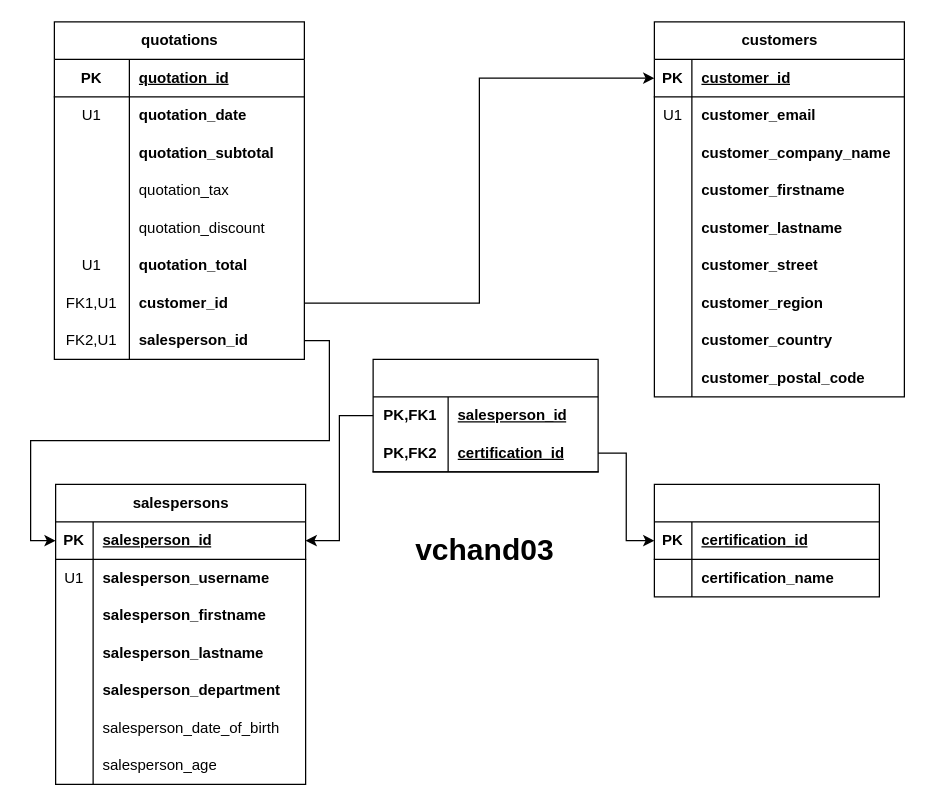
The diagram is 926 pixels wide and 806 high, and some of its shapes have lost their labels. The shapes that lost their labels are listed below. From the top down, each one's box as (x1, y1, x2, y2) in pixels, then its label:
(372, 358, 598, 472): salespersons_certificates
(653, 483, 879, 597): certifications
